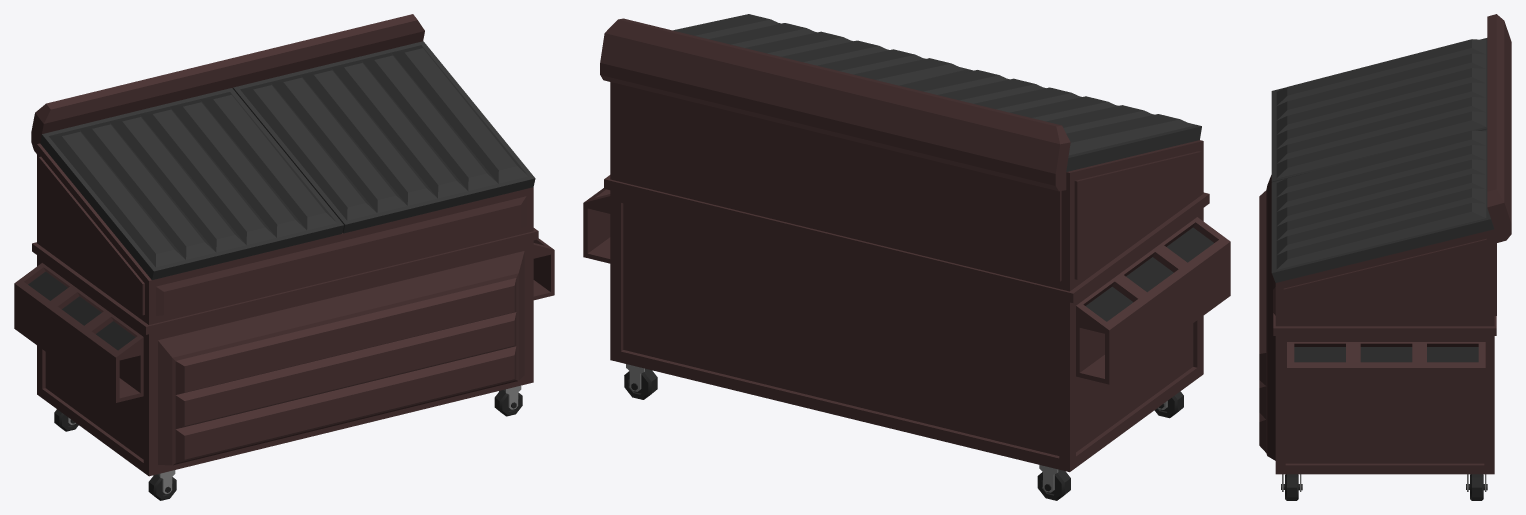
File: props_67.glb
3 renders of one model, left to right at view 1: azimuth 30°, elevation 25°; view 2: azimuth 150°, elevation 25°; view 3: azimuth 270°, elevation 25°, orthographic. The views are drawn at different scales.
Parts seen in each view (by area): view 1: props_67; view 2: props_67; view 3: props_67.
Part boxes in pixels (left/top/right/bottom): props_67: left=14, top=14, right=554, bottom=500; props_67: left=583, top=14, right=1230, bottom=500; props_67: left=1259, top=14, right=1511, bottom=500.
Size of the model in its own units: 2.28 by 1.59 by 1.16.
Materials: 1 (1 with a texture image).
